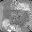people: (2, 19, 12, 30)
